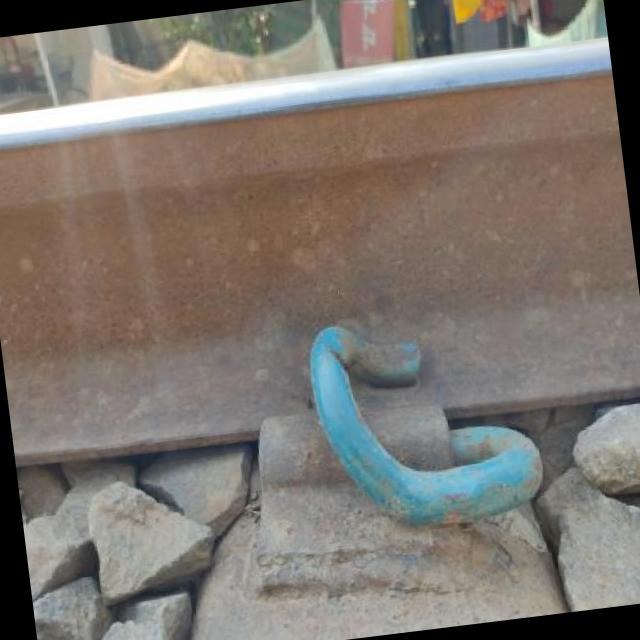non-defective: (0, 22, 635, 337)
